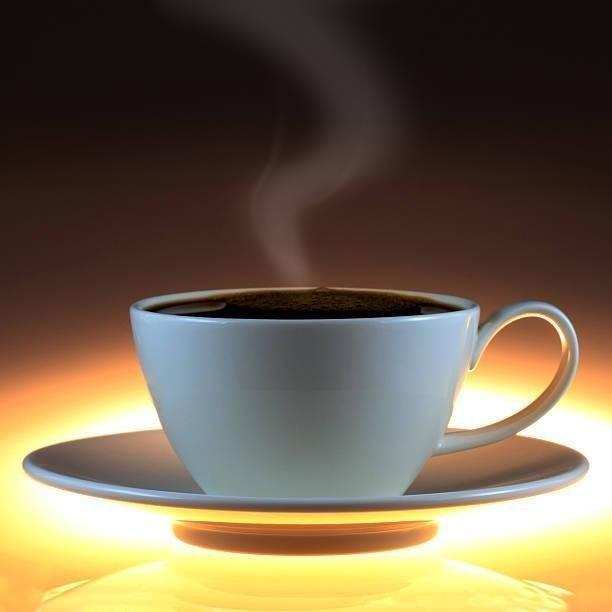cup-handle: (129, 285, 581, 499)
